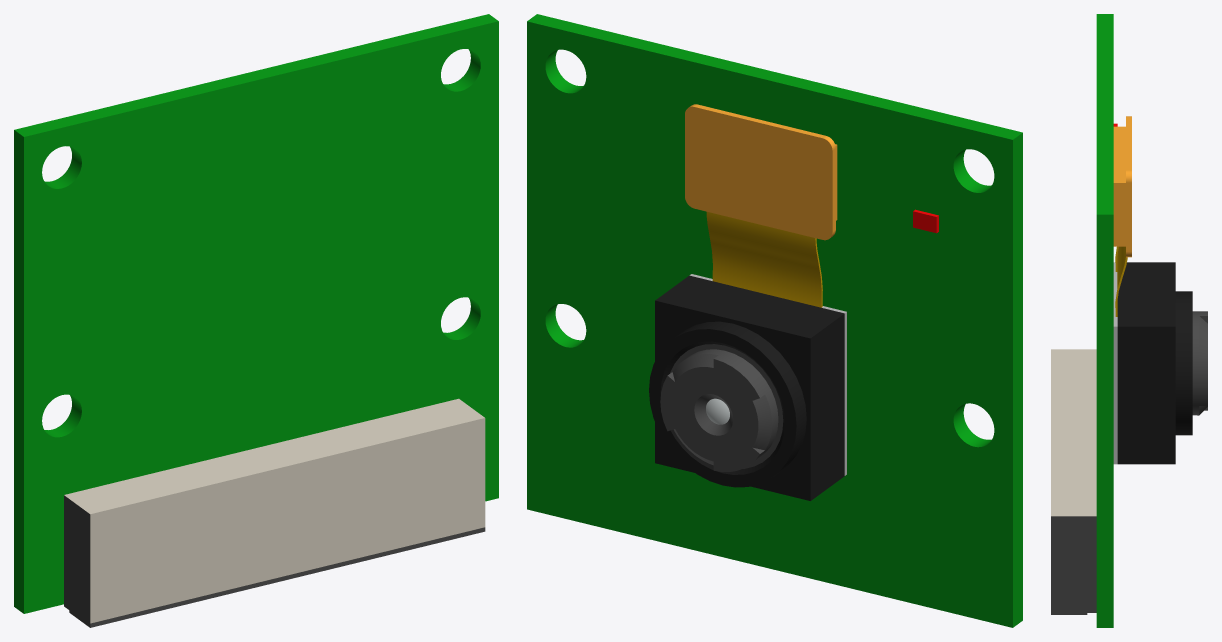
File: rpi_camera.gltf
3 views of the same model, side by side, from view 1: azimuth 30°, elevation 25°; view 2: azimuth 150°, elevation 25°; view 3: azimuth 270°, elevation 25° (orthographic). The views are drawn at different scales.
Visible parts, largest first — view 1: SHELL (×2); view 2: SHELL (×5); view 3: SHELL (×7).
Part boxes in pixels (box(x1,y1,x2,y2)): SHELL (×2): box(14, 14, 498, 627); SHELL (×5): box(527, 14, 1022, 627); SHELL (×7): box(1051, 14, 1207, 627).
Bounding box in the file's own units: 0.025 × 0.0242 × 0.00825.
